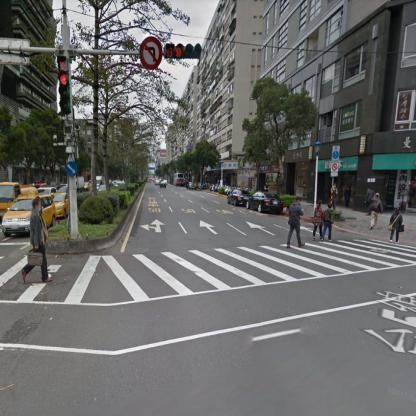Red Light: (54, 53, 72, 116), (162, 42, 204, 58)
